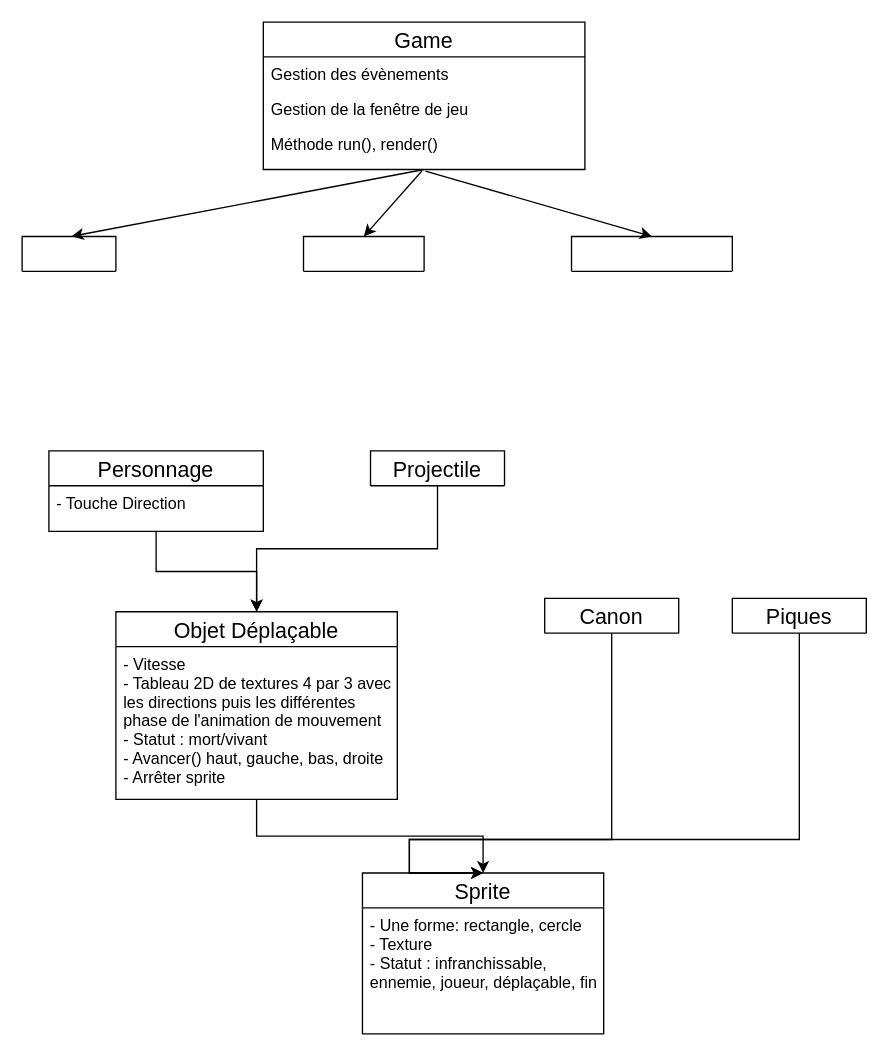
Image size: 888x1056. Some labels were removed from this diagram. The centre of each missing label's shape, as x and y in pixels:
Evènements: the point at 651,253
Time: the point at 68,253
Window: the point at 363,253
